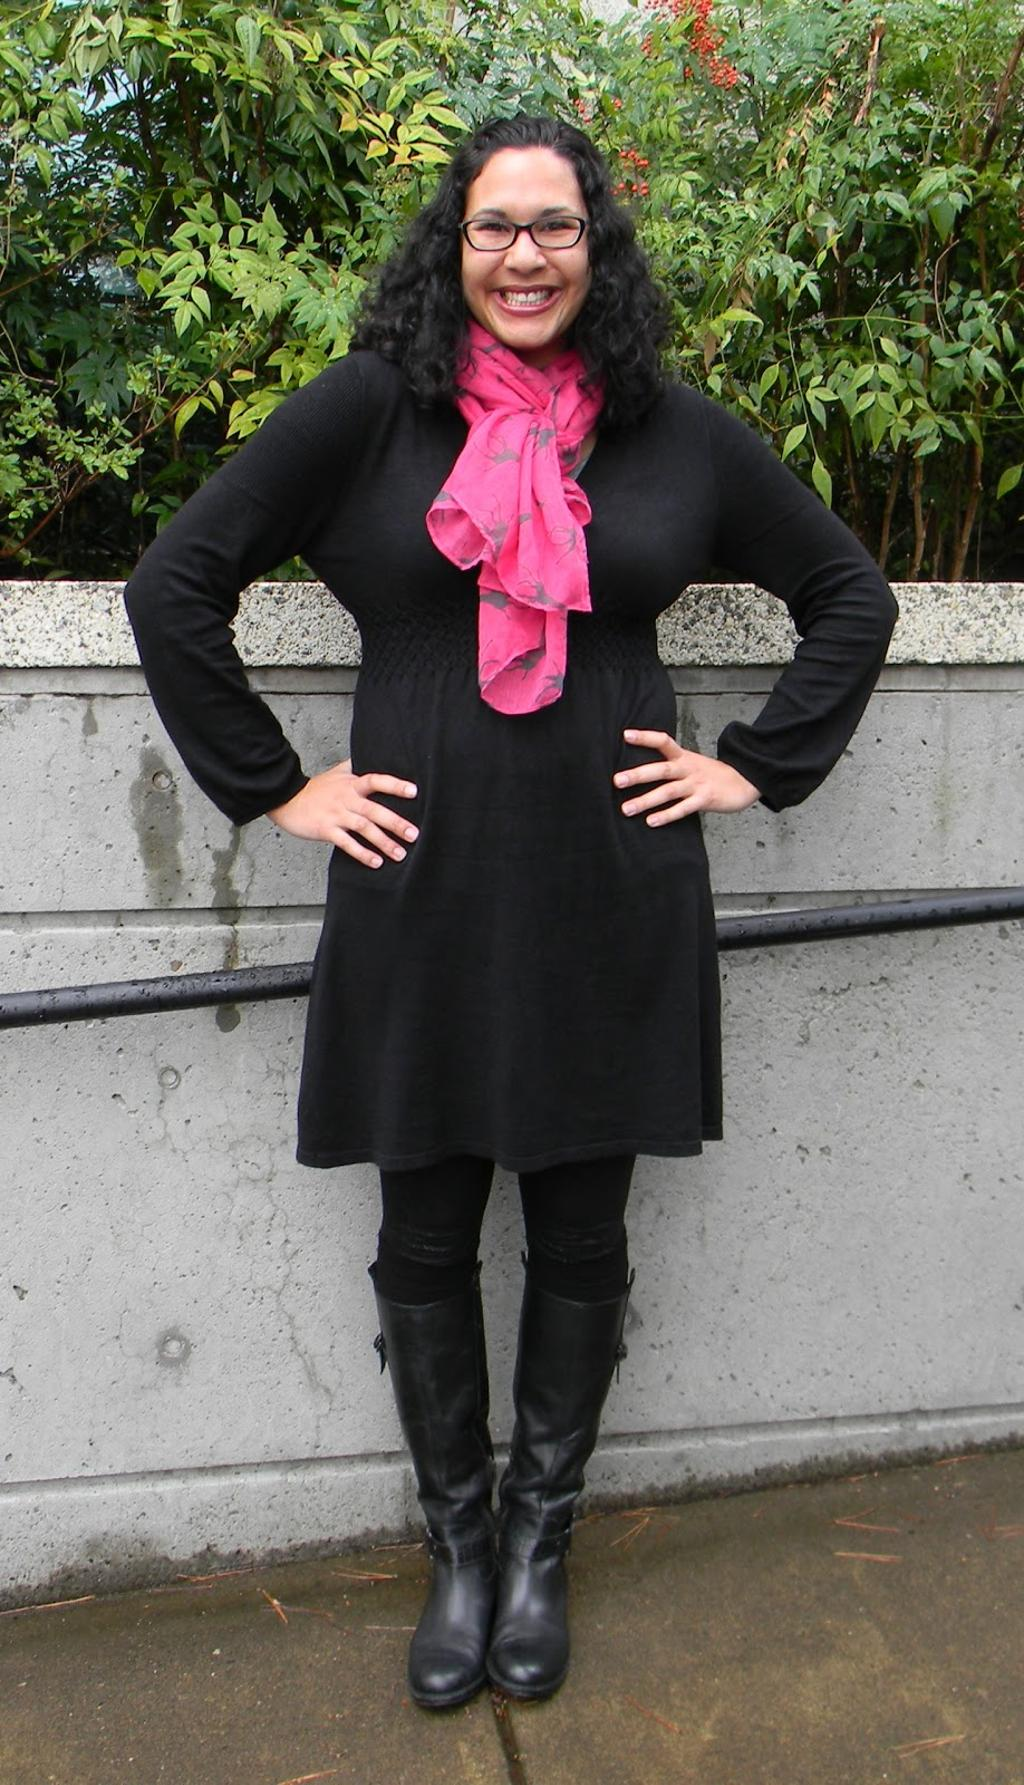face: (460, 146, 589, 341)
